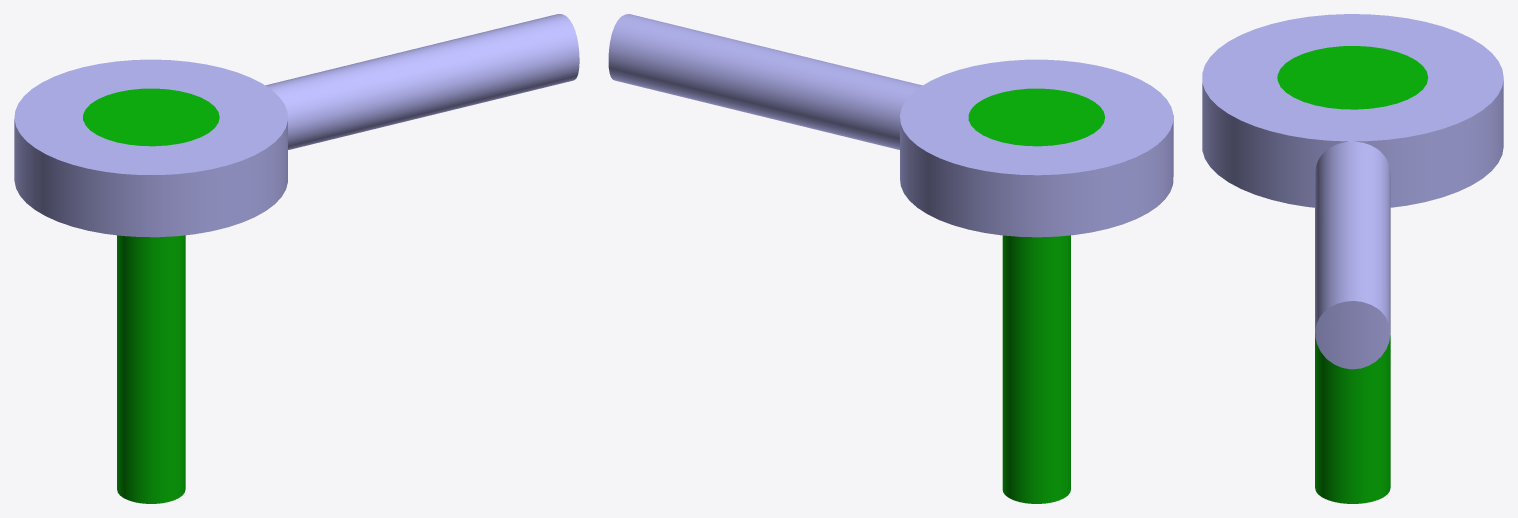
3 views of the same model, side by side, from view 1: azimuth 30°, elevation 25°; view 2: azimuth 150°, elevation 25°; view 3: azimuth 270°, elevation 25° (orthographic). The views are drawn at different scales.
Visible parts, largest first — view 1: rotating-1, central-1; view 2: rotating-1, central-1; view 3: rotating-1, central-1.
Boxes of the visible parts, left/top/right/bottom form: rotating-1: left=14, top=14, right=579, bottom=237; central-1: left=83, top=88, right=219, bottom=503; rotating-1: left=608, top=14, right=1173, bottom=237; central-1: left=968, top=88, right=1104, bottom=503; rotating-1: left=1202, top=14, right=1503, bottom=369; central-1: left=1277, top=46, right=1428, bottom=503.
Size of the model in its own units: 0.09 by 0.06 by 0.04.
